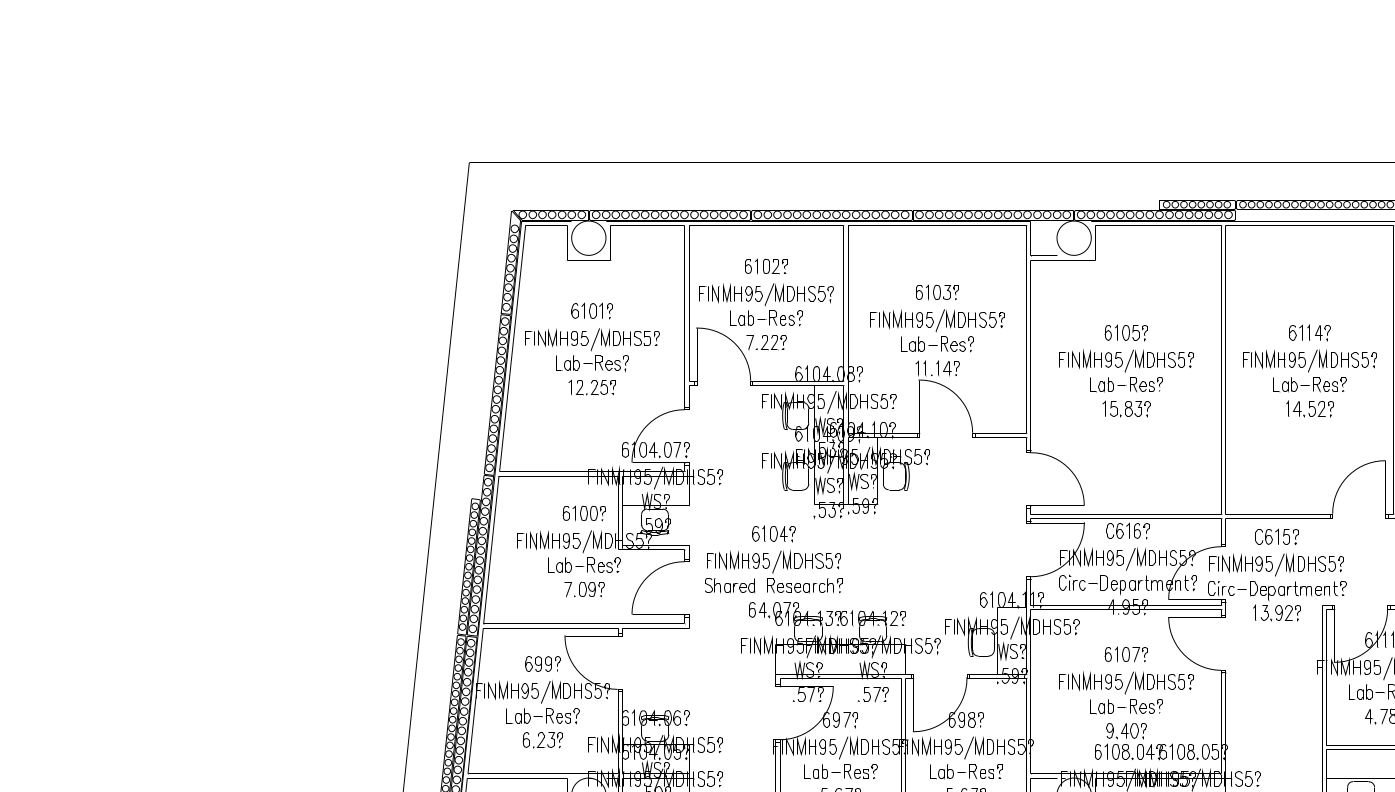door: (1328, 455, 1389, 520), (1329, 598, 1390, 663), (1163, 615, 1224, 680), (1162, 540, 1223, 605), (1028, 520, 1089, 585), (1028, 445, 1089, 510), (916, 374, 977, 439), (692, 324, 753, 389), (625, 401, 686, 466), (623, 557, 684, 622), (560, 632, 621, 697), (773, 679, 834, 744), (908, 675, 969, 740)
